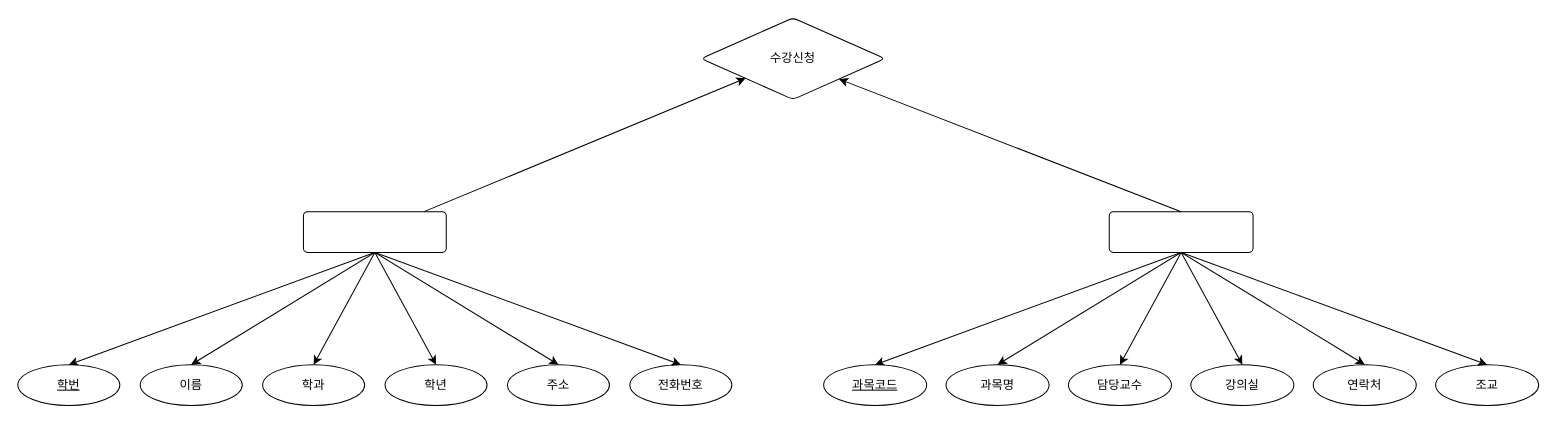
The diagram is 1557 pixels wide and 423 high, and some of its shapes have lost their labels. Here are the shapes that lost their labels. From the top down, the box of each, then its label:
(302, 211, 446, 252): 학생
(1108, 211, 1253, 252): 과목
